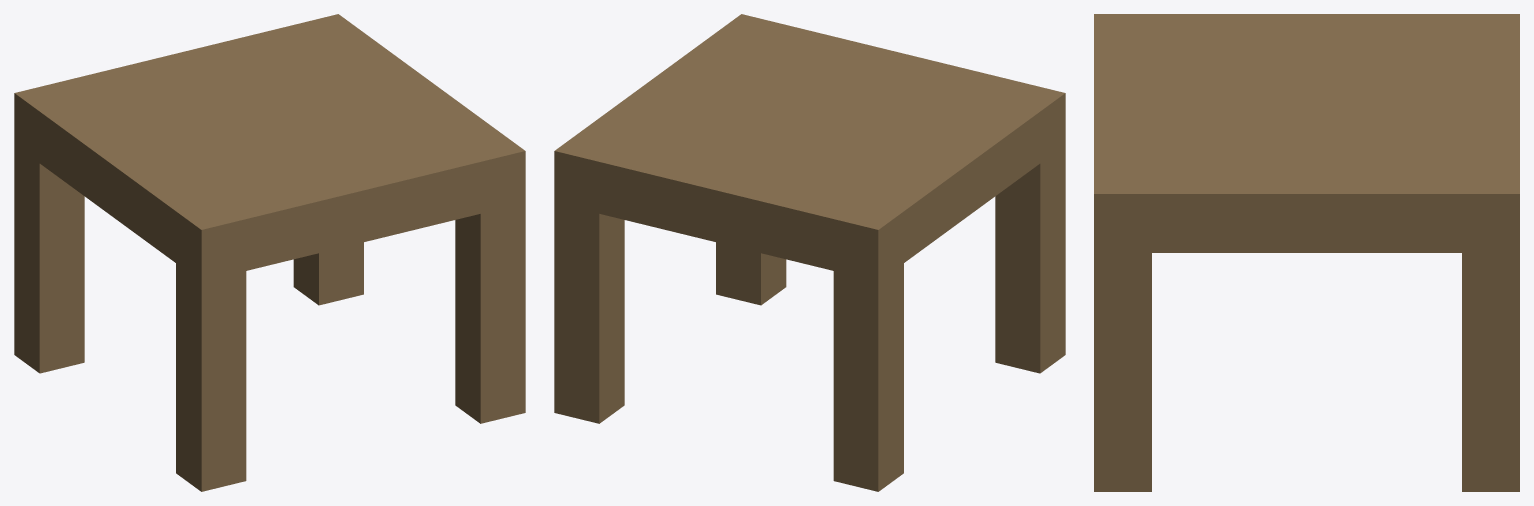
The model's file is Bedside Table.fbx.
3 views of the same model, side by side, from view 1: azimuth 30°, elevation 25°; view 2: azimuth 150°, elevation 25°; view 3: azimuth 270°, elevation 25° (orthographic). The views are drawn at different scales.
Visible parts, largest first — view 1: pCube1; view 2: pCube1; view 3: pCube1.
Boxes of the visible parts, box(x1,y1,x2,y2) form: pCube1: box(14, 14, 525, 491); pCube1: box(554, 14, 1065, 491); pCube1: box(1094, 14, 1519, 491).
Bounding box in the file's own units: 6.53 × 5.05 × 6.53.
